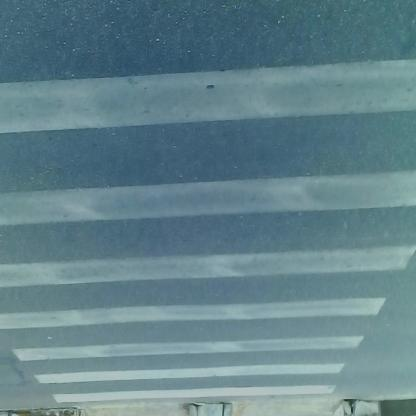crosswalk: (1, 2, 394, 392)
